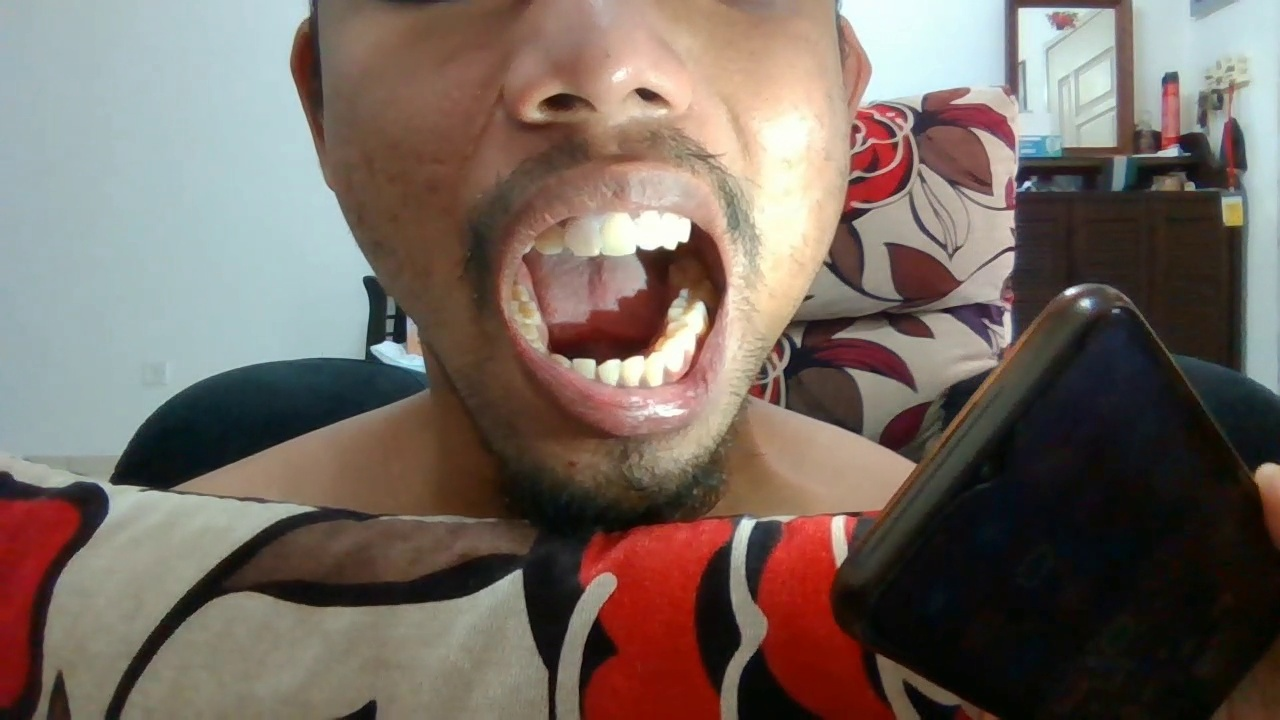1st Molar: (668, 299, 708, 328), (511, 300, 542, 324)
1st Premolar: (655, 337, 683, 371), (679, 217, 693, 243)
2nd Molar: (678, 281, 715, 301), (512, 285, 531, 300)
2nd Premolar: (666, 322, 695, 354)
3rd Molar: (668, 261, 705, 284)
Canine: (646, 353, 666, 387), (663, 211, 680, 251)
Central Incisor: (564, 215, 603, 256), (603, 213, 637, 255), (596, 355, 621, 384), (572, 358, 596, 378)
Lateral Incisor: (636, 211, 662, 250), (534, 224, 564, 254), (621, 356, 645, 386)
